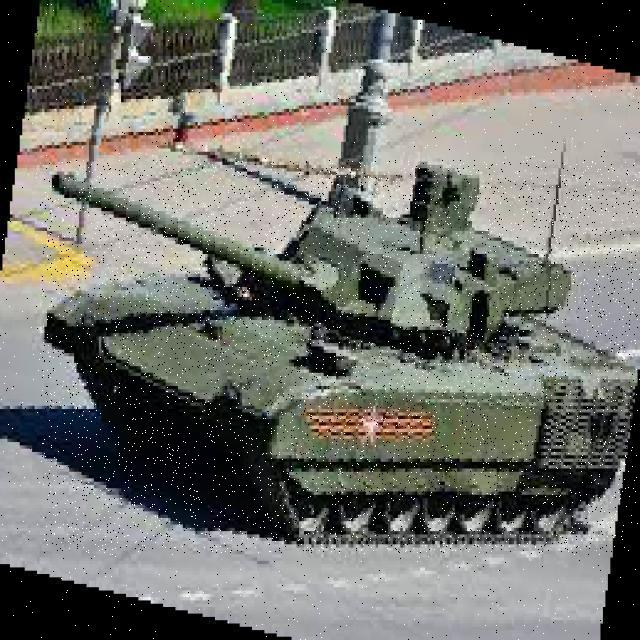MIL_MBT: (42, 160, 638, 553)
